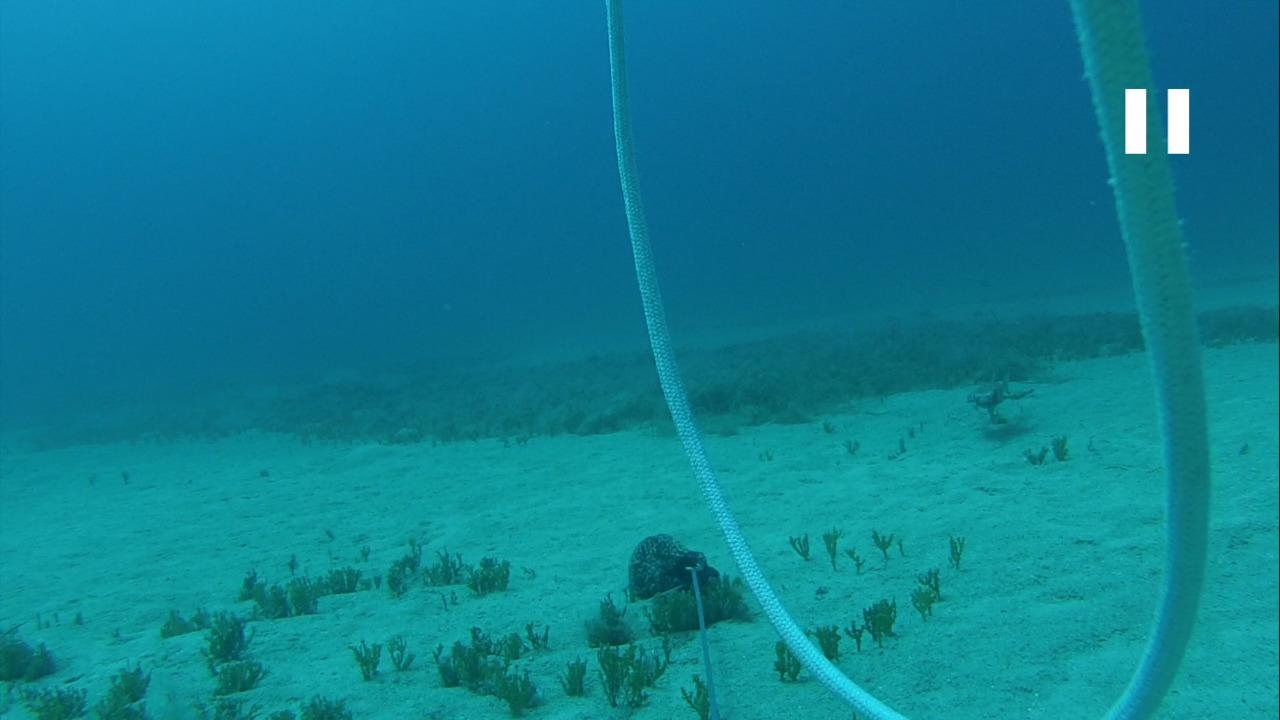dactylopterus: (948, 361, 1040, 423)
